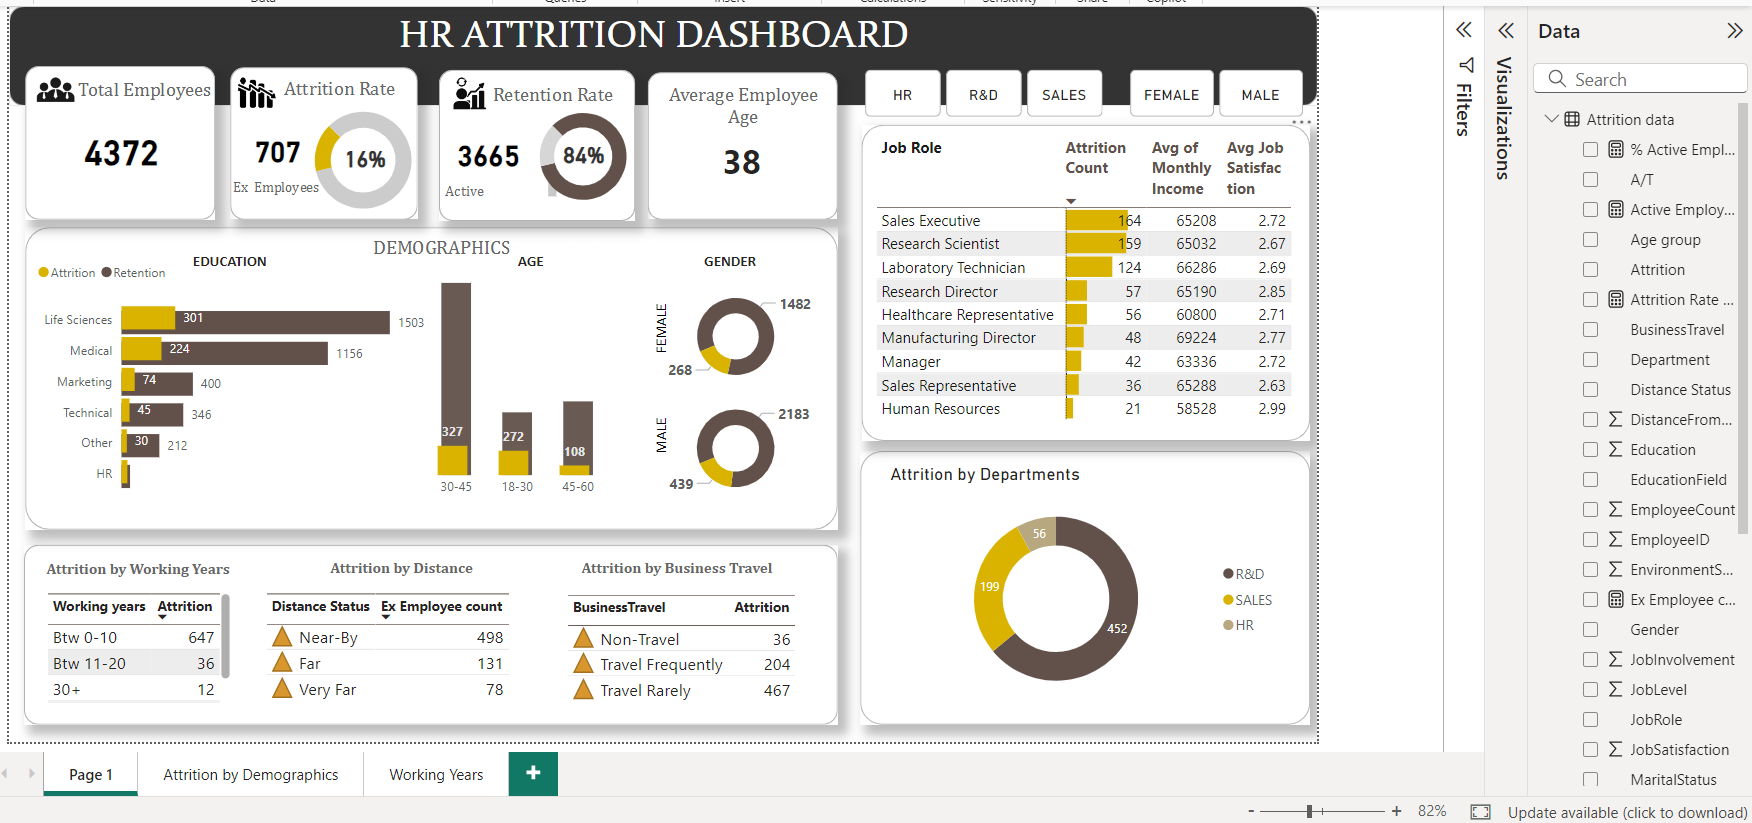

Layout of this report page (visuals, bound fields, positions):
{"tool":"powerbi","page":{"name":"Page 1","canvas":[1280,720],"ordinal":0},"visuals":[{"type":"shape","box":[14.7,527,796.1,176.1],"z":0},{"type":"shape","box":[832.7,435.3,440.2,267.8],"z":1000},{"type":"shape","box":[15.9,216.4,794.8,295.9],"z":2000},{"type":"actionButton","box":[0,0,100,40],"z":3000},{"type":"shape","box":[0,0,1280.3,97.8],"z":4000},{"type":"textbox","box":[376.6,0,529.5,56.3],"z":5000},{"type":"shape","box":[15.9,58.7,185.9,150.4],"z":6000},{"type":"shape","box":[420.7,62.4,192,148],"z":7000},{"type":"textbox","box":[62.4,66,159,34.2],"z":8000},{"type":"card","fields":{"Values":["Sum(Attrition data.EmployeeCount)"]},"box":[50.1,100.3,119.8,81.9],"z":9000},{"type":"shape","box":[216.4,59.9,183.4,149.2],"z":10000},{"type":"card","fields":{"Values":["Attrition data.Ex Employee count"]},"box":[202.5,104.2,119.8,74.6],"z":11000},{"type":"card","fields":{"Values":["Attrition data.Attrition Rate Overall"]},"box":[313.8,122,68.5,55],"z":12000},{"type":"donutChart","title":"Attrition Rate","fields":{"Y":["Sum(Attrition data.EmployeeCount)"],"Category":["Attrition data.Attrition"]},"box":[283,81.4,128.4,138.2],"z":13000},{"type":"textbox","box":[214.2,162.9,107.6,33],"z":14000},{"type":"textbox","box":[263.6,65.1,130.8,33],"z":15000},{"type":"card","fields":{"Values":["Attrition data.Active Employees"]},"box":[409.6,107.6,119.8,74.6],"z":16000},{"type":"textbox","box":[421.9,166.3,118.6,28.1],"z":17000},{"type":"card","fields":{"Values":["Attrition data.% Active Employees"]},"box":[533.6,118.1,58.7,55],"z":18000},{"type":"donutChart","title":"Retention Rate","fields":{"Y":["Sum(Attrition data.EmployeeCount)"],"Category":["Attrition data.Attrition"]},"box":[496.5,89.3,130.8,116.2],"z":19000},{"type":"textbox","box":[468.3,70.9,144.3,33],"z":20000},{"type":"image","box":[0,40.4,91.7,83.2],"z":21000},{"type":"image","box":[409.6,41.6,79.5,89.3],"z":22000},{"type":"image","box":[202.5,47.9,80.7,74.6],"z":23000},{"type":"tableEx","fields":{"Values":["Attrition data.Working_years","Attrition data.Ex Employee count"]},"box":[31.8,569.8,189.5,117.4],"z":24000},{"type":"advancedSlicerVisual","fields":{"Values":["Attrition data.Department"]},"box":[832.7,57.5,244.6,56.3],"z":25000},{"type":"advancedSlicerVisual","fields":{"Values":["Attrition data.Gender"]},"box":[1091.5,58,181,56.3],"z":26000},{"type":"shape","box":[833.5,116.2,439,309.4],"z":27000},{"type":"tableEx","fields":{"Values":["Attrition data.JobRole","Attrition data.Ex Employee count","Avg(Attrition data.MonthlyIncome)","Avg(Attrition data.JobSatisfaction)"]},"box":[842,121.1,421.9,293.5],"z":28000},{"type":"donutChart","title":"Attrition by Departments","fields":{"Y":["Attrition data.Ex Employee count"],"Category":["Attrition data.Department"]},"box":[857.2,447.6,392.5,245.8],"z":29000},{"type":"donutChart","title":"Male","fields":{"Category":["Attrition data.A/T"],"Y":["Sum(Attrition data.EmployeeCount)"]},"box":[629,376.9,165.1,112.5],"z":30000},{"type":"donutChart","title":"Female","fields":{"Category":["Attrition data.A/T"],"Y":["Sum(Attrition data.EmployeeCount)"]},"box":[629,268,165.1,111.3],"z":31000},{"type":"clusteredColumnChart","title":"Total Attrition by Age Group","fields":{"Category":["Attrition data.Age group"],"Y":["Sum(Attrition data.EmployeeCount)"],"Series":["Attrition data.A/T"]},"box":[380.8,232.6,232.3,256.8],"z":32000},{"type":"clusteredBarChart","title":"Education","fields":{"Category":["Attrition data.EducationField"],"Series":["Attrition data.A/T"],"Y":["Sum(Attrition data.EmployeeCount)"]},"box":[23.7,241.1,393.8,248.2],"z":33000},{"type":"textbox","box":[350.5,220.6,160.2,33],"z":34000},{"type":"textbox","box":[175.4,235,90.5,33],"z":35000},{"type":"textbox","box":[493.3,235,52.6,31.8],"z":36000},{"type":"textbox","box":[675.5,235,73.4,30.6],"z":37000},{"type":"shape","box":[615.6,383,46.5,73.4],"z":38000},{"type":"shape","box":[613.1,280.3,48.9,69.7],"z":39000},{"type":"shape","box":[624.9,64.8,185.9,144.3],"z":40000},{"type":"textbox","box":[631,70.9,174.9,55],"z":41000},{"type":"textbox","box":[693.3,124.7,80.7,57.5],"z":42000},{"type":"tableEx","fields":{"Values":["Attrition data.Distance Status","Attrition data.Ex Employee count"]},"box":[245.8,569.8,250.7,117.4],"z":43000},{"type":"tableEx","fields":{"Values":["Attrition data.BusinessTravel","Attrition data.Ex Employee count"]},"box":[540.5,571.1,242.1,132.1],"z":44000},{"type":"textbox","box":[31.8,536.8,211.6,31.8],"z":45000},{"type":"textbox","box":[309.4,535.6,159,33],"z":46000},{"type":"textbox","box":[555.2,535.6,207.9,33],"z":47000}]}

Visuals, with their boxes on the page's 1280x720 design canvas (x1, y1, x2, y2). These are canvas units, not pixel positions in the 1752x823 screenshot, which may show the page scaled, cropped or inside an application window:
shape: 15 527 811 703
shape: 833 435 1273 703
shape: 16 216 811 512
actionButton: 0 0 100 40
shape: 0 0 1280 98
textbox: 377 0 906 56
shape: 16 59 202 209
shape: 421 62 613 210
textbox: 62 66 221 100
card - Sum(Attrition data.EmployeeCount): 50 100 170 182
shape: 216 60 400 209
card - Attrition data.Ex Employee count: 202 104 322 179
card - Attrition data.Attrition Rate Overall: 314 122 382 177
"Attrition Rate" donutChart: 283 81 411 220
textbox: 214 163 322 196
textbox: 264 65 394 98
card - Attrition data.Active Employees: 410 108 529 182
textbox: 422 166 540 194
card - Attrition data.% Active Employees: 534 118 592 173
"Retention Rate" donutChart: 496 89 627 206
textbox: 468 71 613 104
image: 0 40 92 124
image: 410 42 489 131
image: 202 48 283 122
tableEx - Attrition data.Working_years x Attrition data.Ex Employee count: 32 570 221 687
advancedSlicerVisual - Attrition data.Department: 833 58 1077 114
advancedSlicerVisual - Attrition data.Gender: 1092 58 1272 114
shape: 834 116 1272 426
tableEx - Attrition data.JobRole x Attrition data.Ex Employee count: 842 121 1264 415
"Attrition by Departments" donutChart: 857 448 1250 693
"Male" donutChart: 629 377 794 489
"Female" donutChart: 629 268 794 379
"Total Attrition by Age Group" clusteredColumnChart: 381 233 613 489
"Education" clusteredBarChart: 24 241 418 489
textbox: 350 221 511 254
textbox: 175 235 266 268
textbox: 493 235 546 267
textbox: 676 235 749 266
shape: 616 383 662 456
shape: 613 280 662 350
shape: 625 65 811 209
textbox: 631 71 806 126
textbox: 693 125 774 182
tableEx - Attrition data.Distance Status x Attrition data.Ex Employee count: 246 570 496 687
tableEx - Attrition data.BusinessTravel x Attrition data.Ex Employee count: 540 571 783 703
textbox: 32 537 243 569
textbox: 309 536 468 569
textbox: 555 536 763 569
